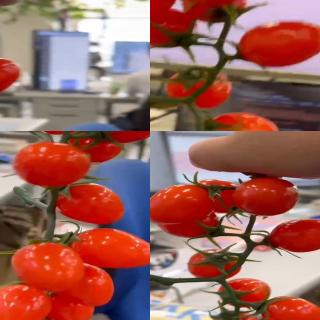tomato: (236, 21, 320, 70), (11, 242, 85, 294), (12, 142, 91, 190), (69, 226, 150, 269), (56, 183, 125, 227), (164, 66, 233, 109), (233, 176, 299, 217), (150, 184, 215, 225), (66, 263, 115, 306), (155, 210, 224, 240), (189, 178, 244, 215), (62, 132, 124, 164), (0, 282, 52, 320), (267, 217, 320, 252), (150, 9, 196, 49), (216, 278, 274, 308), (188, 252, 243, 282), (261, 294, 320, 320), (205, 111, 278, 131), (179, 0, 243, 22), (0, 56, 22, 100), (88, 131, 150, 144), (213, 312, 263, 320)
